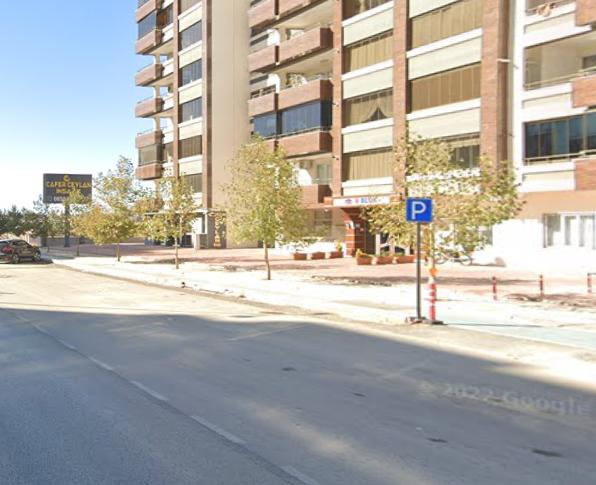park: (406, 198, 432, 222)
